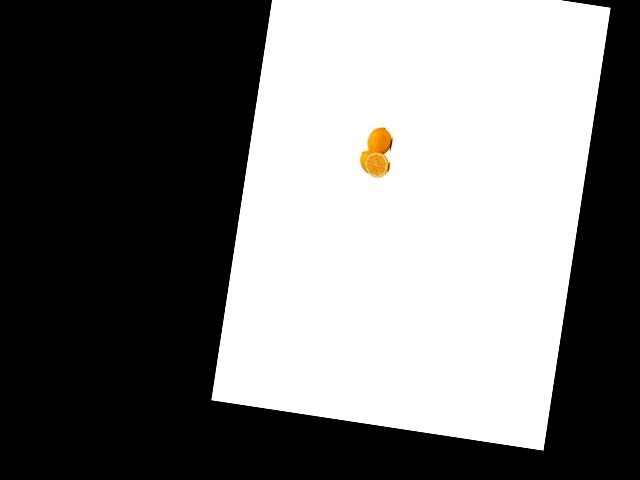lemon: (355, 147, 384, 180)
